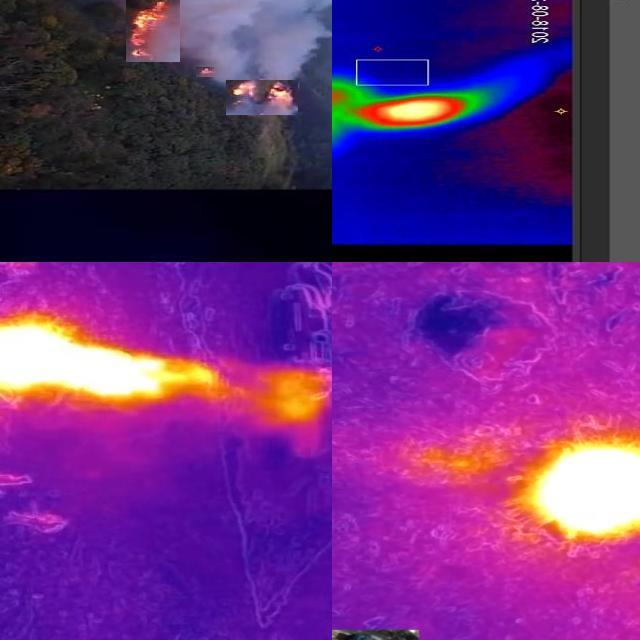fire: (1, 309, 172, 405), (525, 439, 640, 543), (353, 89, 491, 131)
